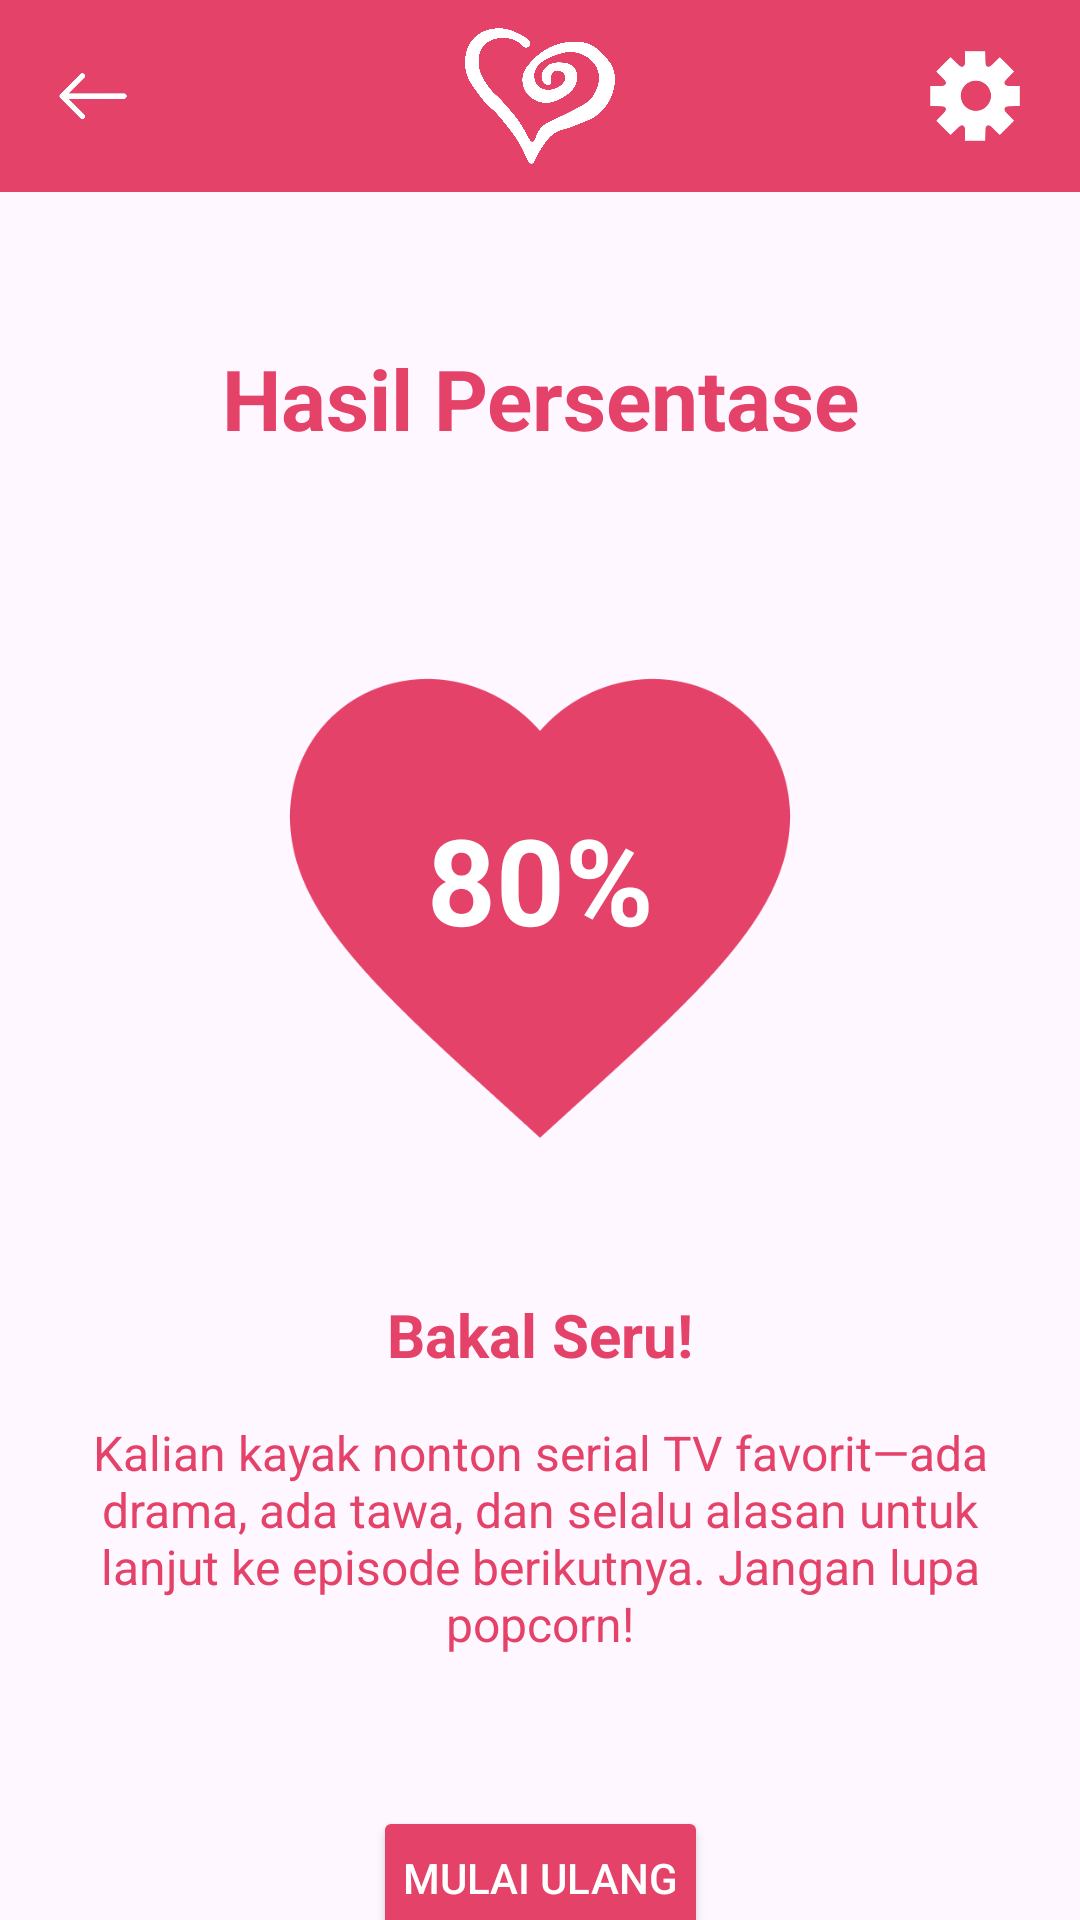

Icon bounding boxes for this 1080×1920 phone screenshot, format {"left": x1, "top": y1, "right": x2, "bottom": y2}:
Back Button: {"left": 59, "top": 73, "right": 127, "bottom": 119}
Settings Button: {"left": 930, "top": 51, "right": 1020, "bottom": 141}
